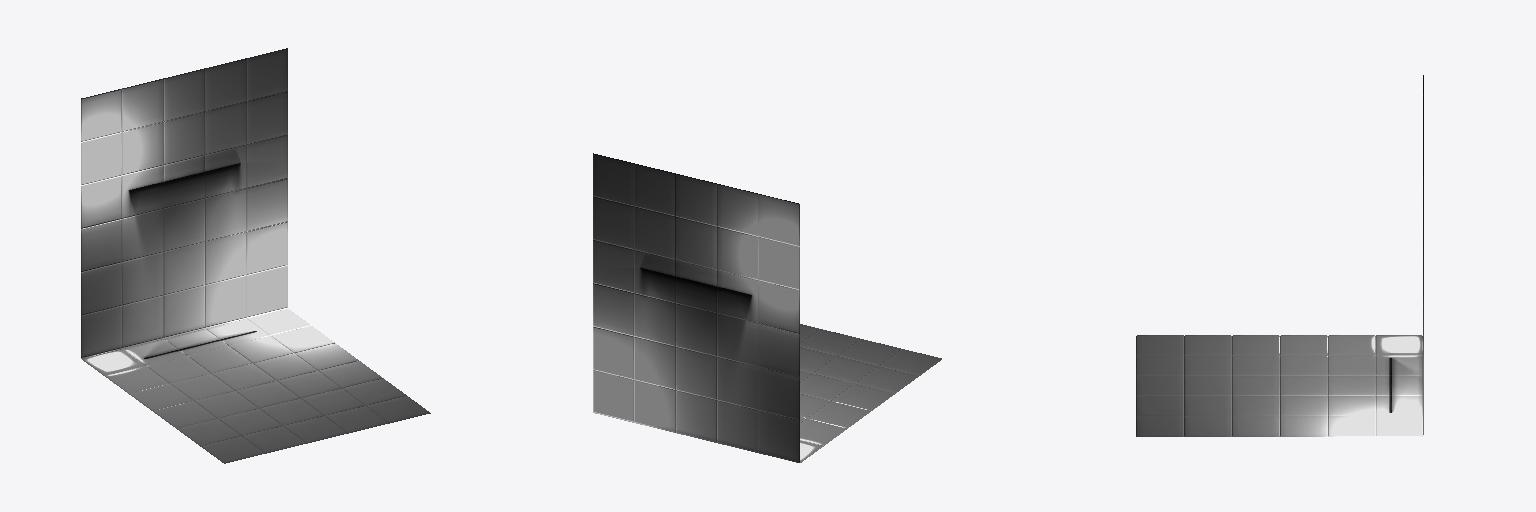
3 views of the same model, side by side, from view 1: azimuth 30°, elevation 25°; view 2: azimuth 150°, elevation 25°; view 3: azimuth 270°, elevation 25° (orthographic).
Visible parts, largest first — view 1: Tiles; view 2: Tiles; view 3: Tiles.
Boxes of the visible parts, box(x1,y1,x2,y2) form: Tiles: box(81, 48, 430, 463); Tiles: box(593, 153, 941, 462); Tiles: box(1136, 75, 1423, 436).
Bounding box in the file's own units: 4000 × 4800 × 4800.
1 materials, 1 textured.